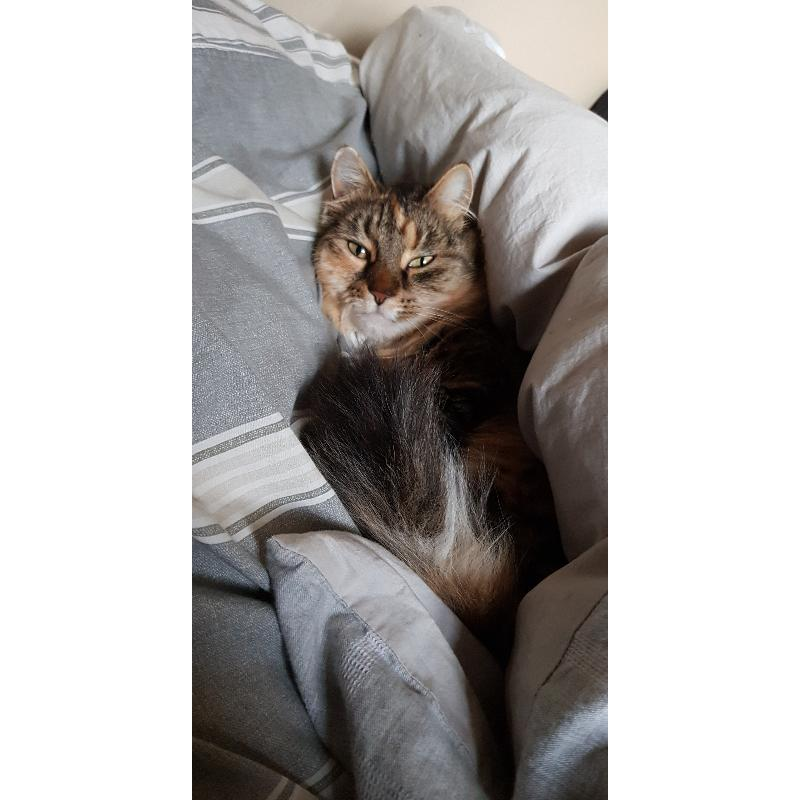yellow: (310, 145, 564, 623)
